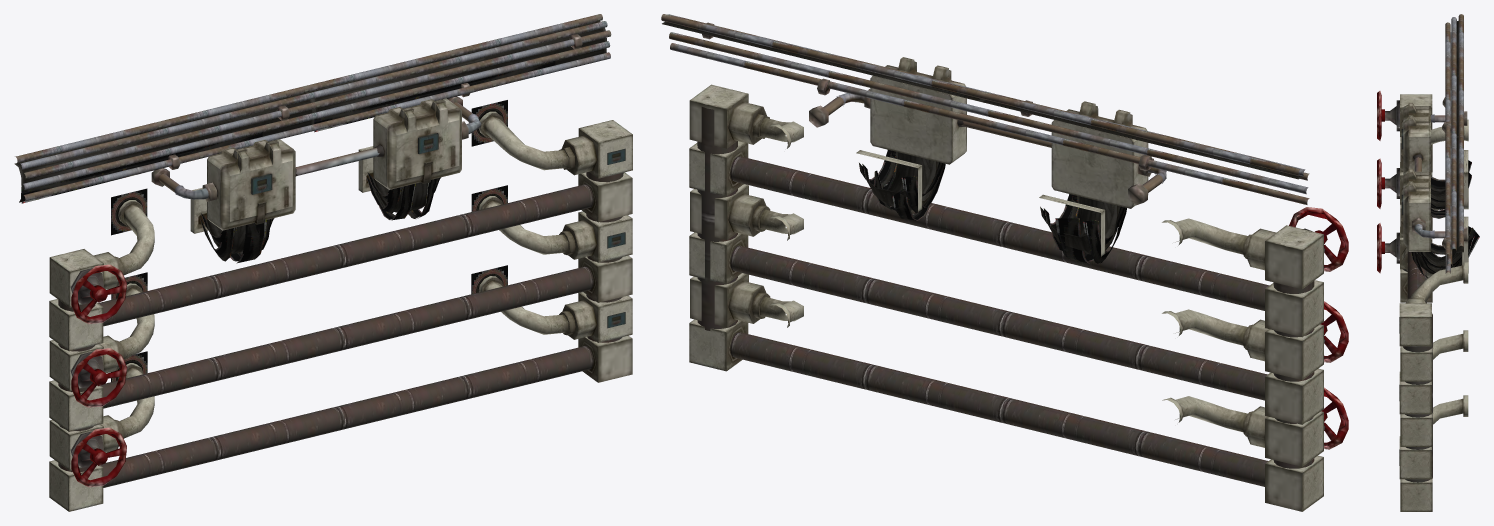
File: submarine_greeble_300x200_04_curved.glb
3 views of the same model, side by side, from view 1: azimuth 30°, elevation 25°; view 2: azimuth 150°, elevation 25°; view 3: azimuth 270°, elevation 25° (orthographic). The views are drawn at different scales.
Parts seen in each view (by area): view 1: submarine_greeble_300x200_04_curved_LOD0; view 2: submarine_greeble_300x200_04_curved_LOD0; view 3: submarine_greeble_300x200_04_curved_LOD0.
Boxes of the visible parts, x1,y1,x2,y2 form: submarine_greeble_300x200_04_curved_LOD0: (14, 14, 632, 511); submarine_greeble_300x200_04_curved_LOD0: (661, 14, 1348, 511); submarine_greeble_300x200_04_curved_LOD0: (1377, 14, 1479, 511).
Size of the model in its own units: 3 by 1.62 by 0.5633.
2 materials, 2 textured.
